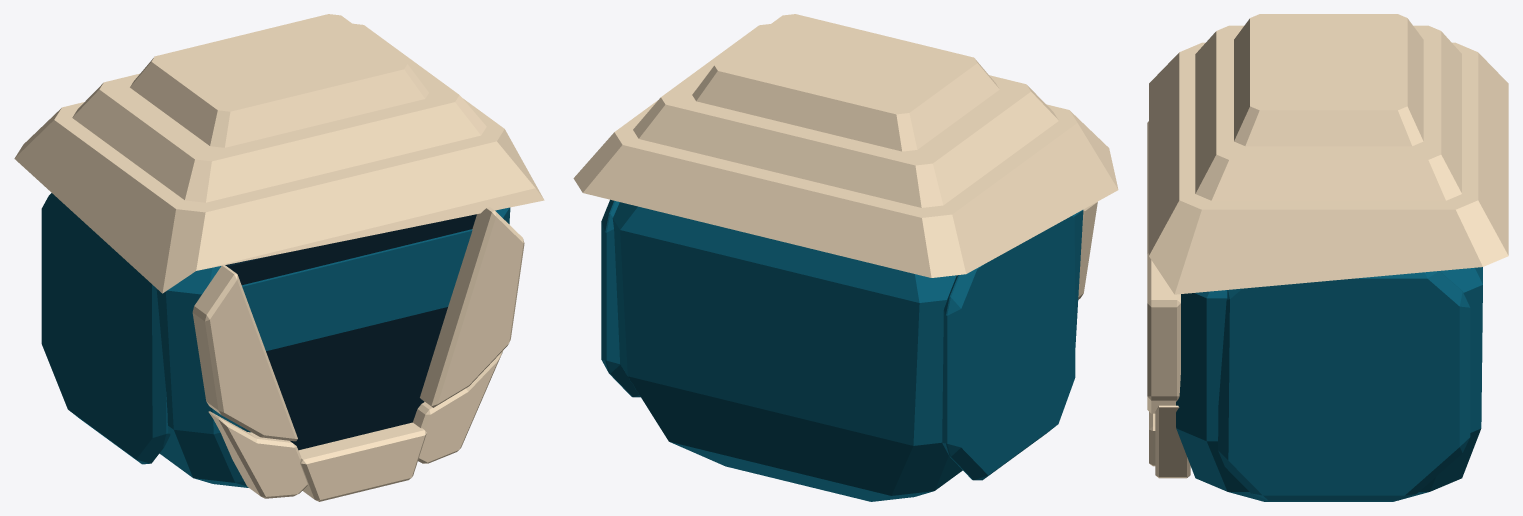
File: copilot_architect_v01.glb
3 renders of one model, left to right at view 1: azimuth 30°, elevation 25°; view 2: azimuth 150°, elevation 25°; view 3: azimuth 270°, elevation 25°, orthographic. The views are drawn at different scales.
Parts seen in each view (by area): view 1: pavilion_body; view 2: pavilion_body; view 3: pavilion_body.
Part boxes in pixels (box(x1,y1,x2,y2)): pavilion_body: box(14, 14, 544, 501); pavilion_body: box(573, 14, 1118, 501); pavilion_body: box(1147, 14, 1508, 501).
Bounding box in the file's own units: 2.86 × 2.68 × 2.25.
Materials: 1 (1 with a texture image).
